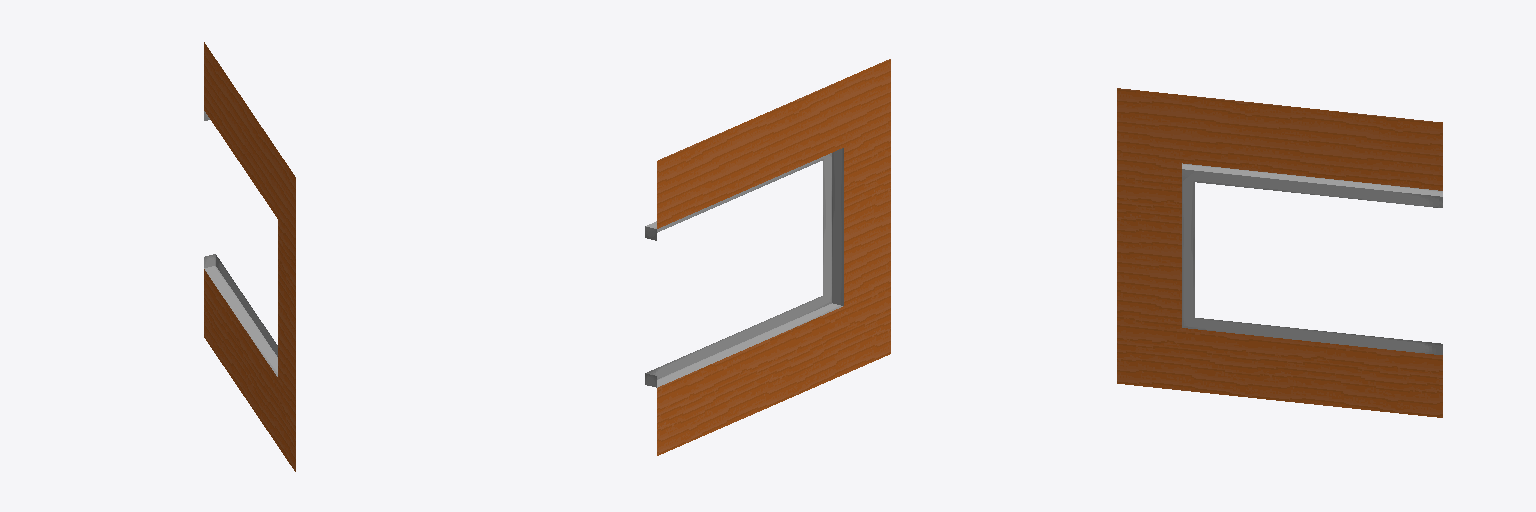
The picture shows the model from 3 angles: view 1: azimuth 30°, elevation 25°; view 2: azimuth 150°, elevation 25°; view 3: azimuth 270°, elevation 25°; orthographic projection.
Parts seen in each view (by area): view 1: Plane; view 2: Plane; view 3: Plane.
Part boxes in pixels (bbox=[...]): Plane: bbox=[204, 42, 295, 471]; Plane: bbox=[645, 59, 890, 455]; Plane: bbox=[1117, 88, 1442, 417].
Size of the model in its own units: 0.5838 by 2 by 2.
1 materials, 1 textured.